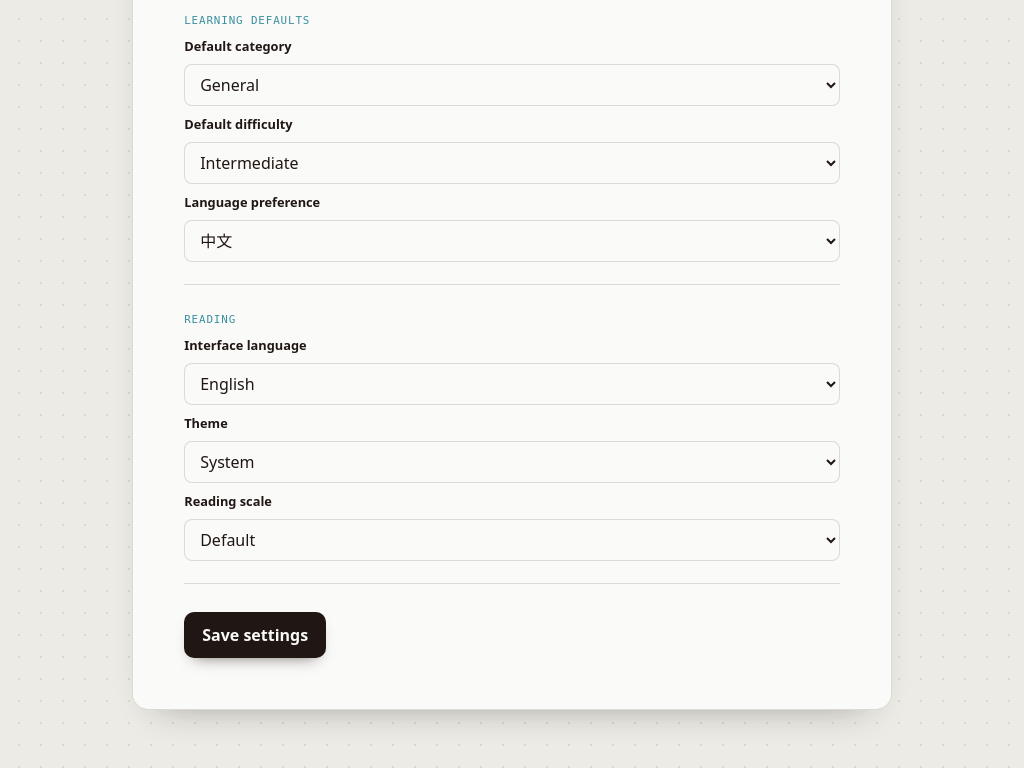
workspace pages › switches the interface language from settings
(page scrolled)
Select "中文" in the dropdown labelled "Interface language" at (512, 384), box x1=184 y1=363 x2=840 y2=405
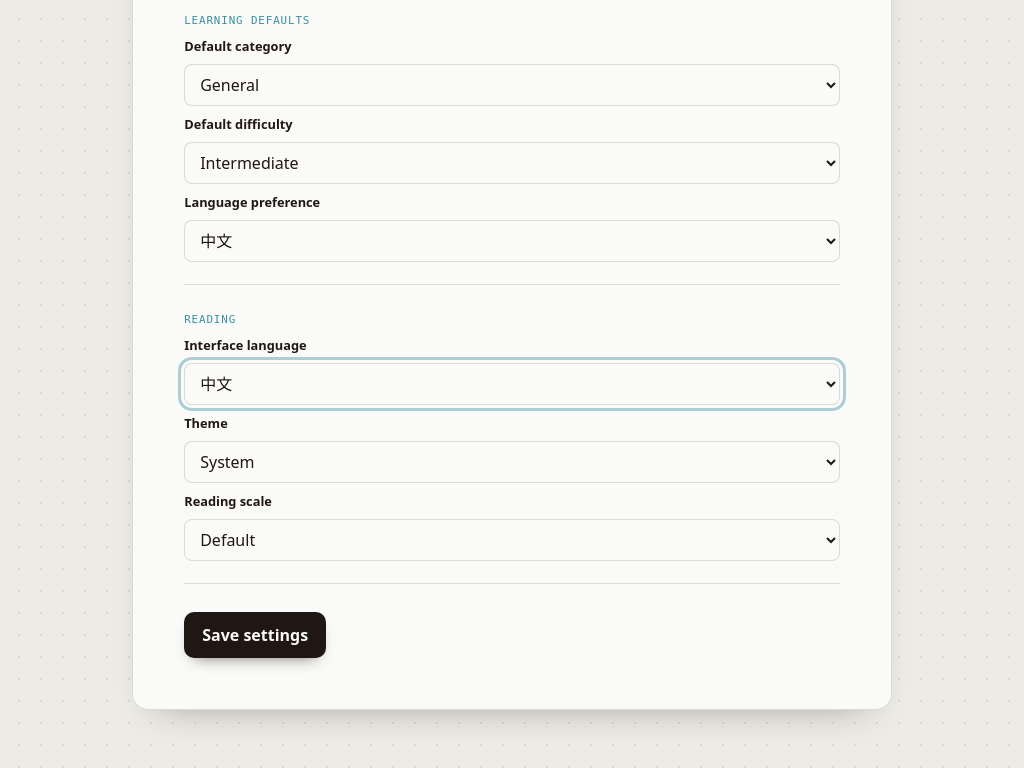
Click the button "Save settings" at (255, 635), box x1=184 y1=612 x2=326 y2=658
(page scrolled)
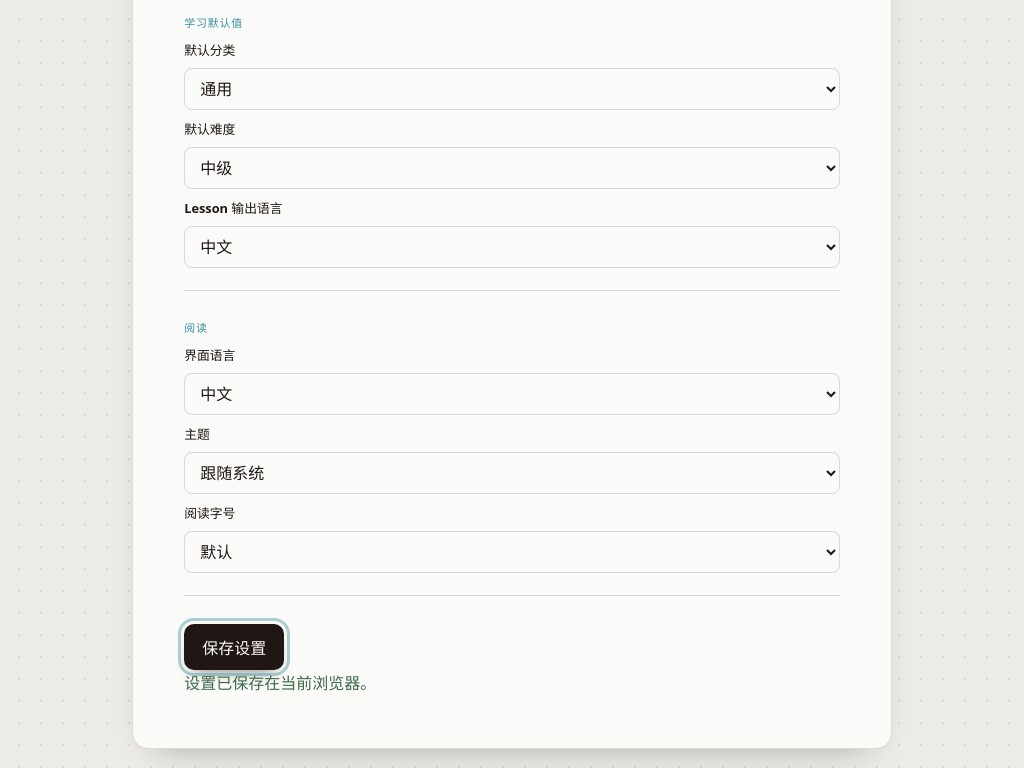
Expected: the button "保存设置" is shown, x1=184 y1=624 x2=284 y2=670
